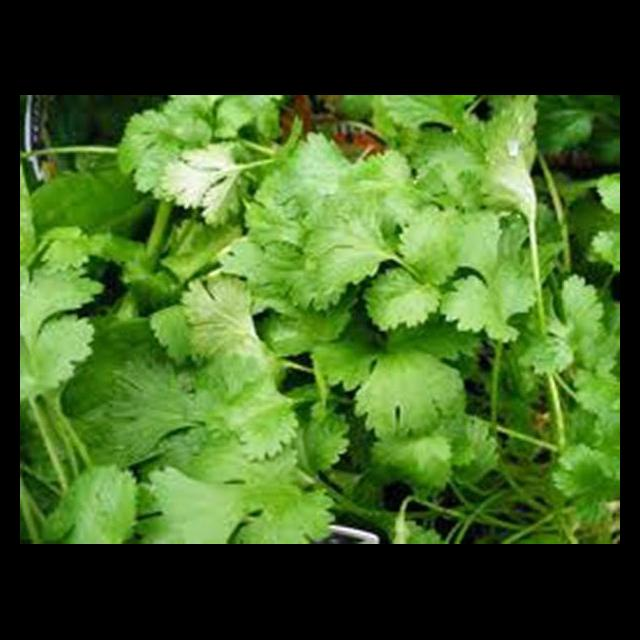cilantro: (20, 96, 619, 544)
